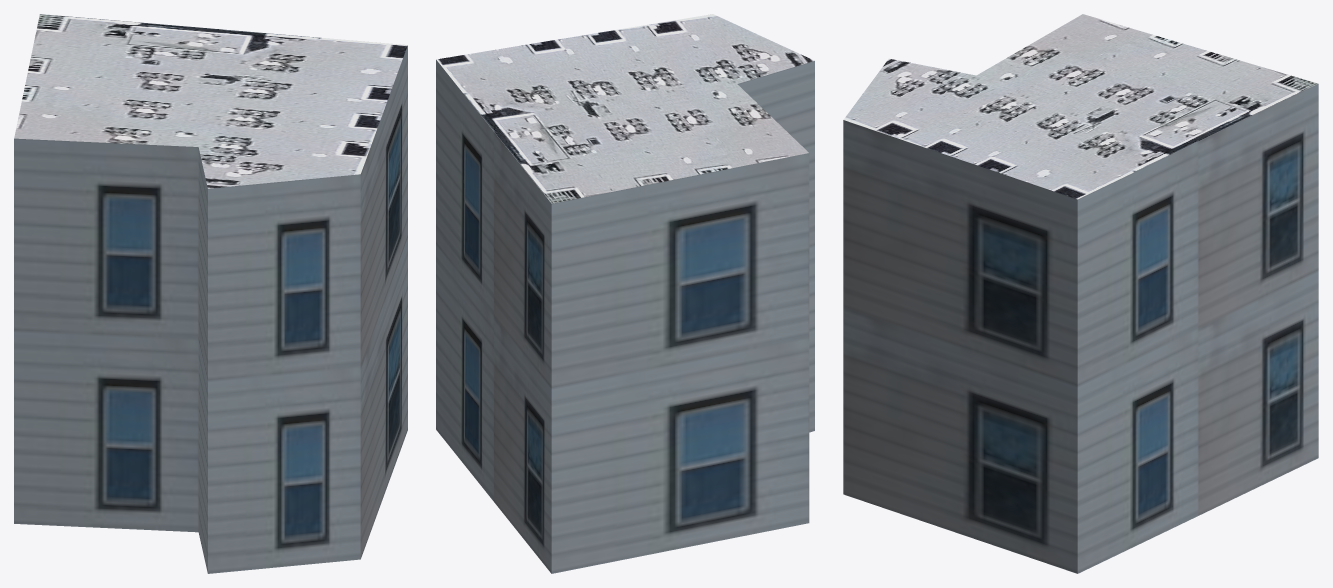
The model's file is ResTex__5066.fbx.
3 renders of one model, left to right at view 1: azimuth 30°, elevation 25°; view 2: azimuth 150°, elevation 25°; view 3: azimuth 270°, elevation 25°, orthographic. The views are drawn at different scales.
Visible parts, largest first — view 1: CityEngineMaterial_18_m, CityEngineMaterial_4_m; view 2: CityEngineMaterial_18_m, CityEngineMaterial_4_m; view 3: CityEngineMaterial_18_m, CityEngineMaterial_4_m.
Boxes of the visible parts, bbox=[...] form: CityEngineMaterial_18_m: bbox=[14, 45, 407, 573]; CityEngineMaterial_4_m: bbox=[14, 14, 407, 188]; CityEngineMaterial_18_m: bbox=[436, 60, 814, 573]; CityEngineMaterial_4_m: bbox=[436, 14, 814, 203]; CityEngineMaterial_18_m: bbox=[843, 84, 1318, 573]; CityEngineMaterial_4_m: bbox=[843, 14, 1317, 199].
Bounding box in the file's own units: 6.37 × 6 × 6.9.
2 materials, 2 textured.
